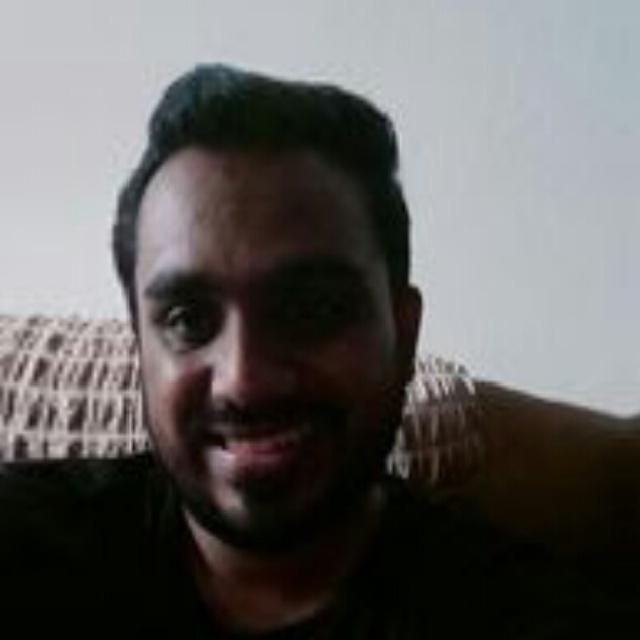Happy: (123, 132, 449, 516)
